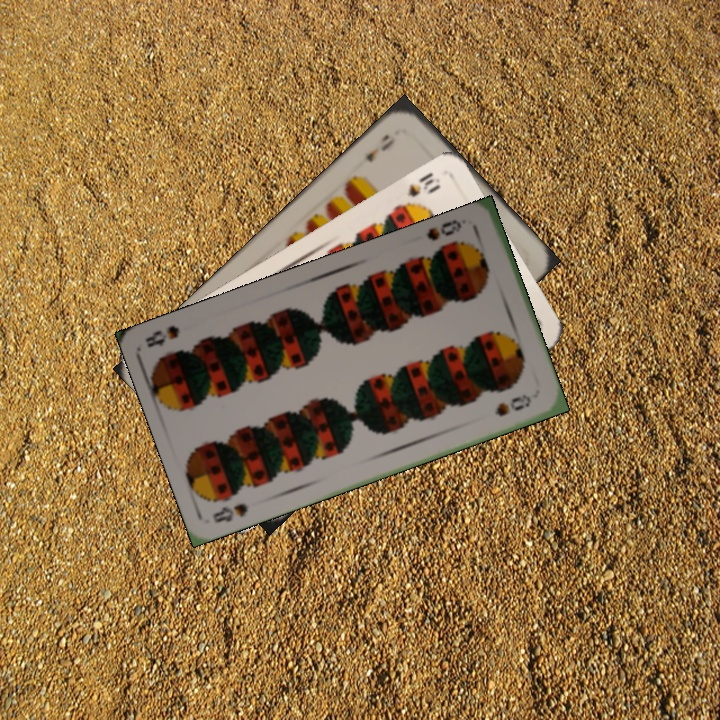E9: (361, 130, 398, 165)
S10: (394, 168, 444, 211)
S8: (422, 216, 465, 243), (208, 499, 251, 526)
